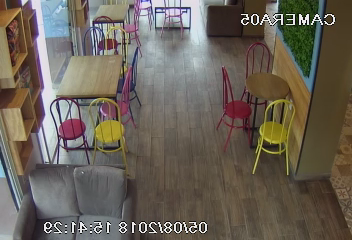libre: (217, 45, 323, 164), (53, 25, 137, 170), (81, 1, 152, 49)
